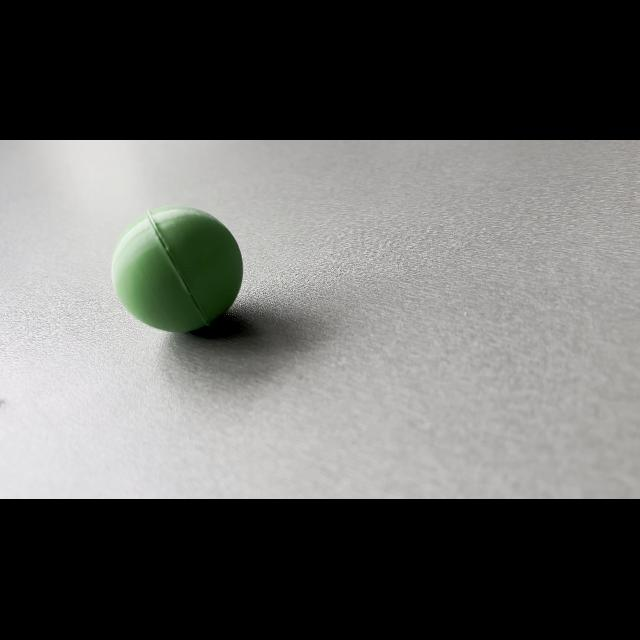objects: (105, 198, 247, 336)
